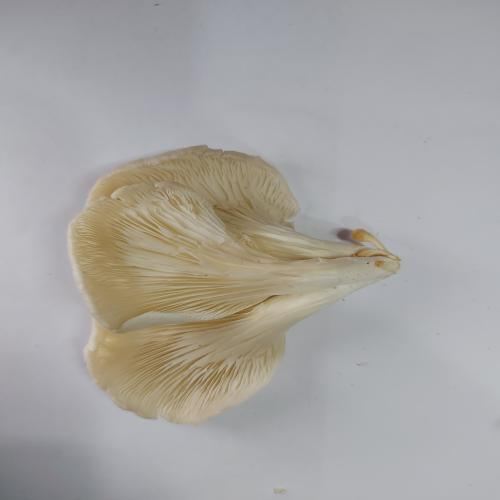Oyster Mushroom: (66, 143, 402, 425)
